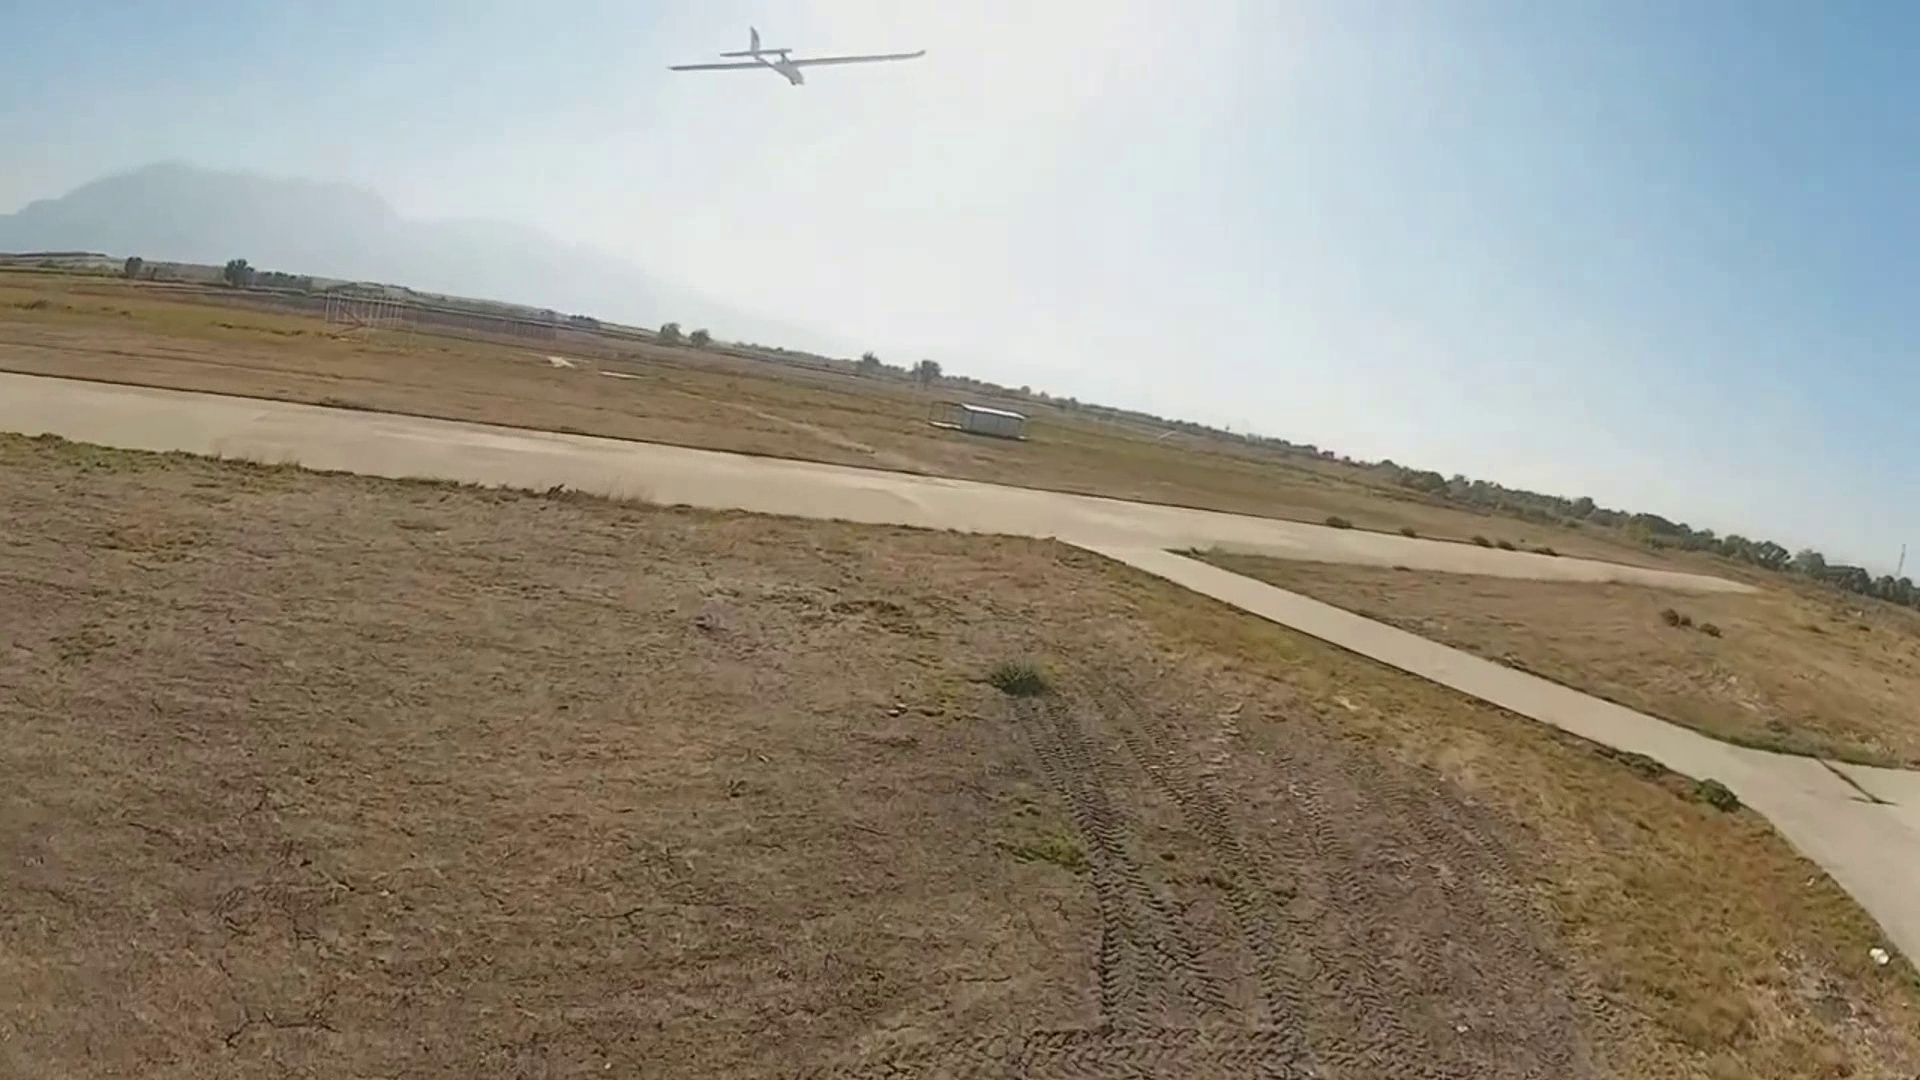airplane: (665, 25, 928, 86)
